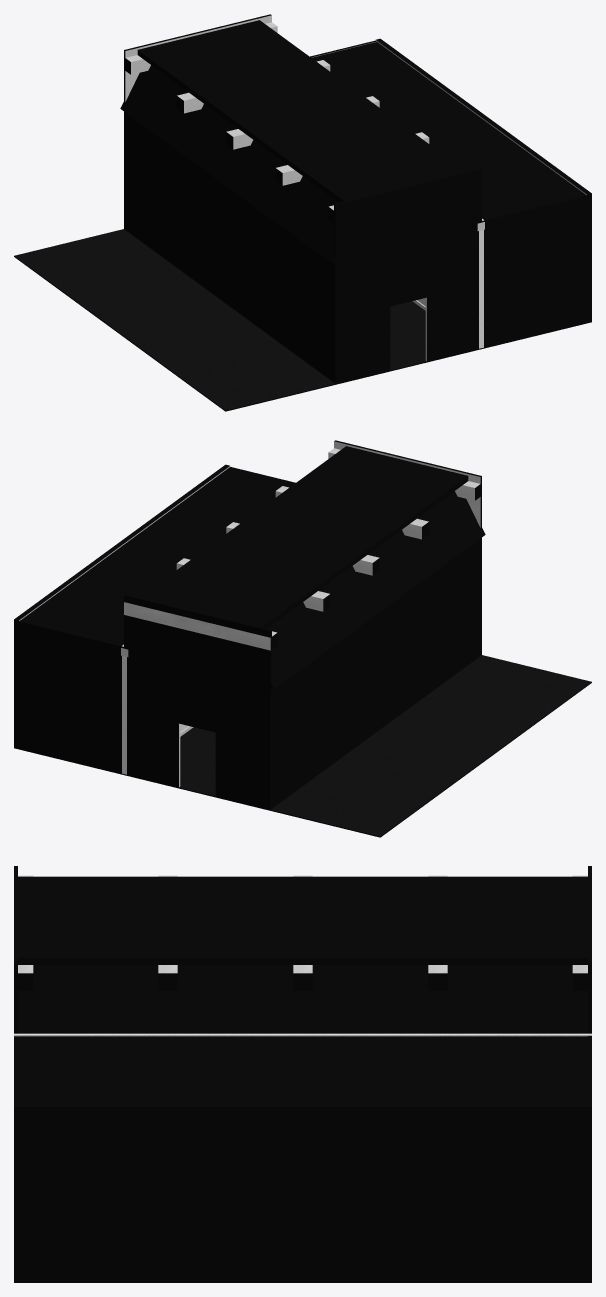
Rendered from Tunnel3-WithRoom.fbx.
The picture shows the model from 3 angles, top to bottom: view 1: azimuth 30°, elevation 25°; view 2: azimuth 150°, elevation 25°; view 3: azimuth 270°, elevation 25°; orthographic projection. The views are drawn at different scales.
Visible parts, largest first — view 1: node_id5 (×3), node_id10; view 2: node_id5 (×3), node_id10; view 3: node_id5 (×2), node_id10.
Boxes of the visible parts, x1=… form: node_id5 (×3): x1=14, y1=14, x2=591, y2=411; node_id10: x1=417, y1=218, x2=483, y2=348; node_id5 (×3): x1=14, y1=440, x2=591, y2=837; node_id10: x1=122, y1=644, x2=188, y2=774; node_id5 (×2): x1=14, y1=866, x2=591, y2=1282; node_id10: x1=14, y1=1033, x2=591, y2=1036.
Size of the model in its own units: 0.512 by 0.2447 by 0.512.
Materials: 5 (4 with a texture image).
